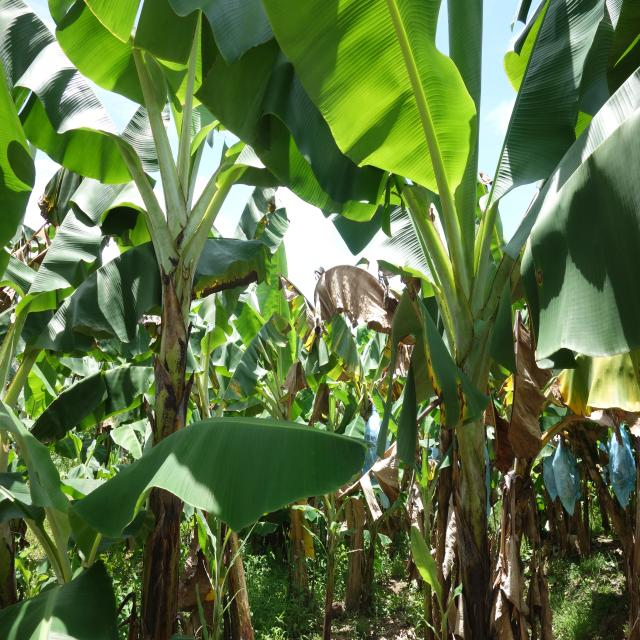Banana-plant: (130, 157, 217, 640), (432, 284, 498, 640)
